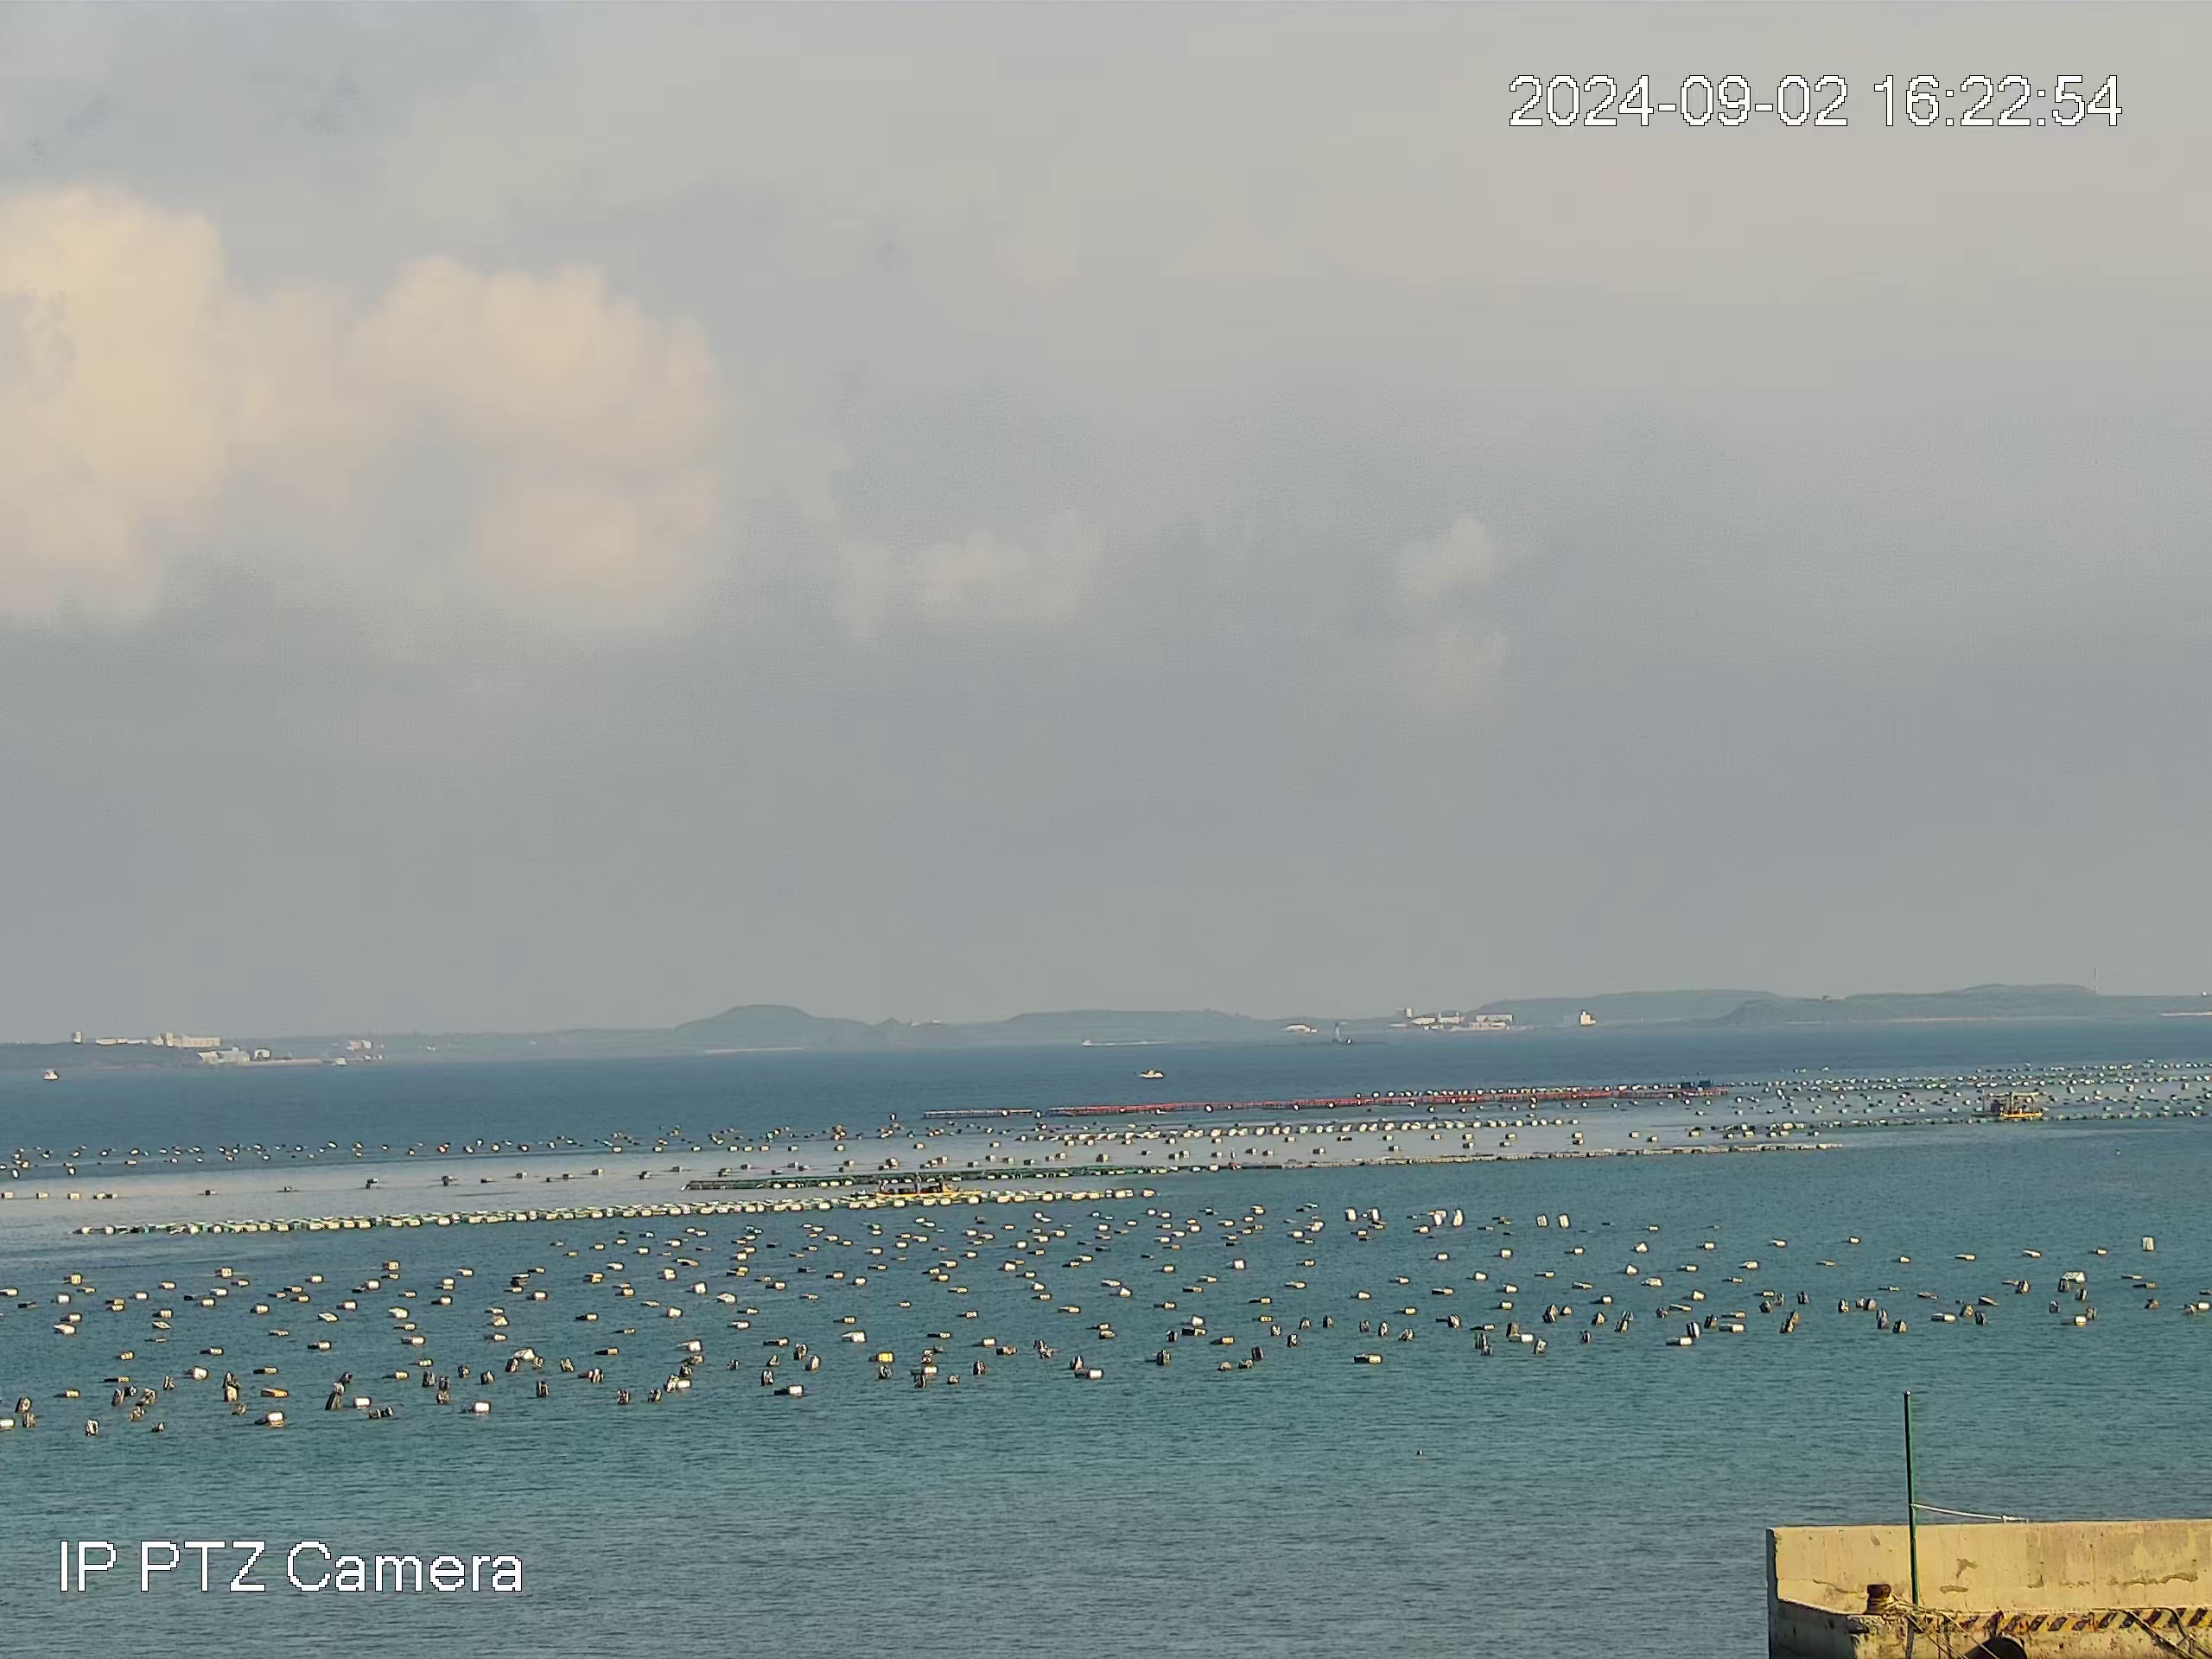boat: (1970, 1091, 2043, 1122), (874, 1171, 953, 1197), (1134, 1068, 1165, 1079)
